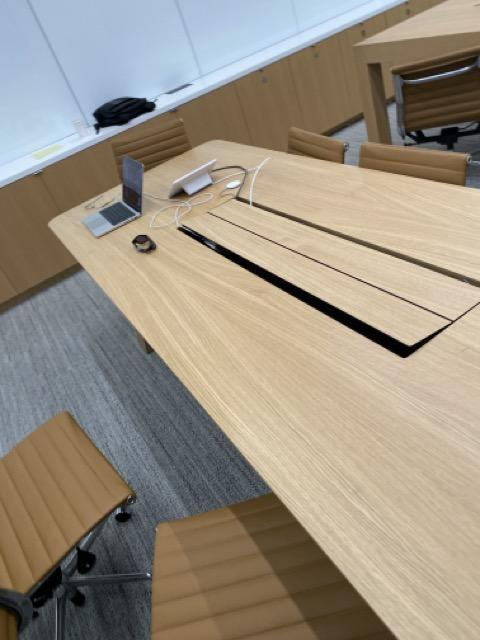Sunglasses: (132, 231, 158, 256)
